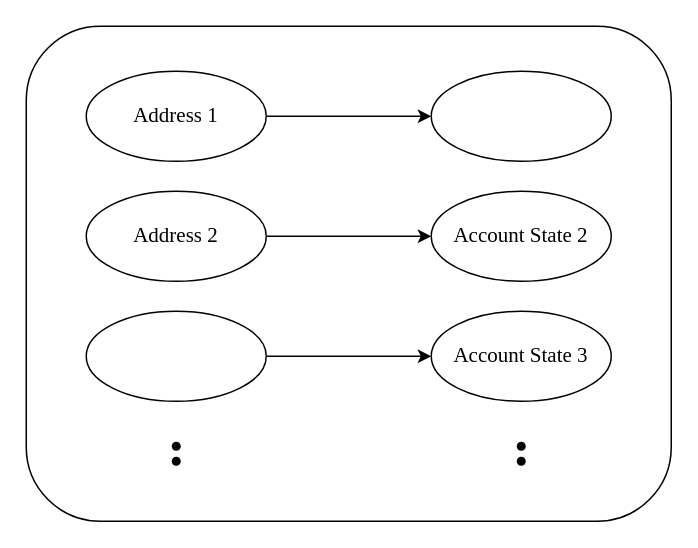
Some shapes in this 698 by 548 pixel diagram are drawn without their labels. Each missing label, with the centre of its shape:
"Account State 1" goes at pixel 520 115.
"Address 3" goes at pixel 175 355.
